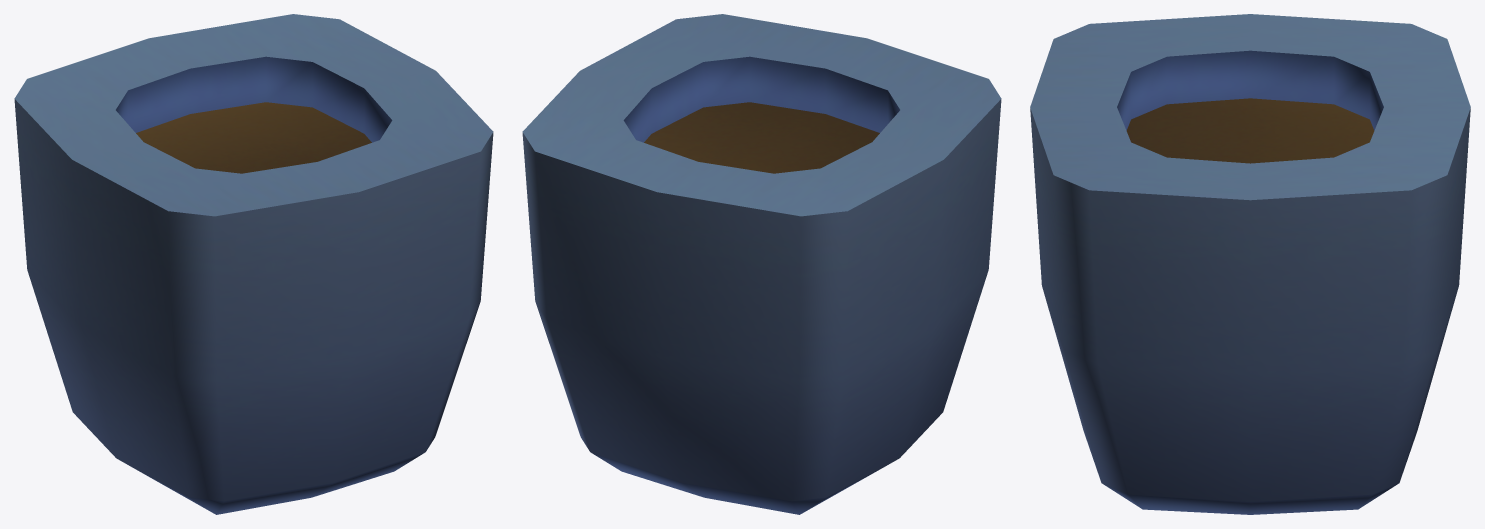
File: flower_port_blue.fbx
3 renders of one model, left to right at view 1: azimuth 30°, elevation 25°; view 2: azimuth 150°, elevation 25°; view 3: azimuth 270°, elevation 25°, orthographic. The views are drawn at different scales.
Parts seen in each view (by area): view 1: flower_port_blue; view 2: flower_port_blue; view 3: flower_port_blue.
Part boxes in pixels (x1,y1,x2,y2): flower_port_blue: [14, 14, 493, 514]; flower_port_blue: [522, 14, 1001, 514]; flower_port_blue: [1030, 14, 1470, 514].
Size of the model in its own units: 42.26 by 37.77 by 42.26.
